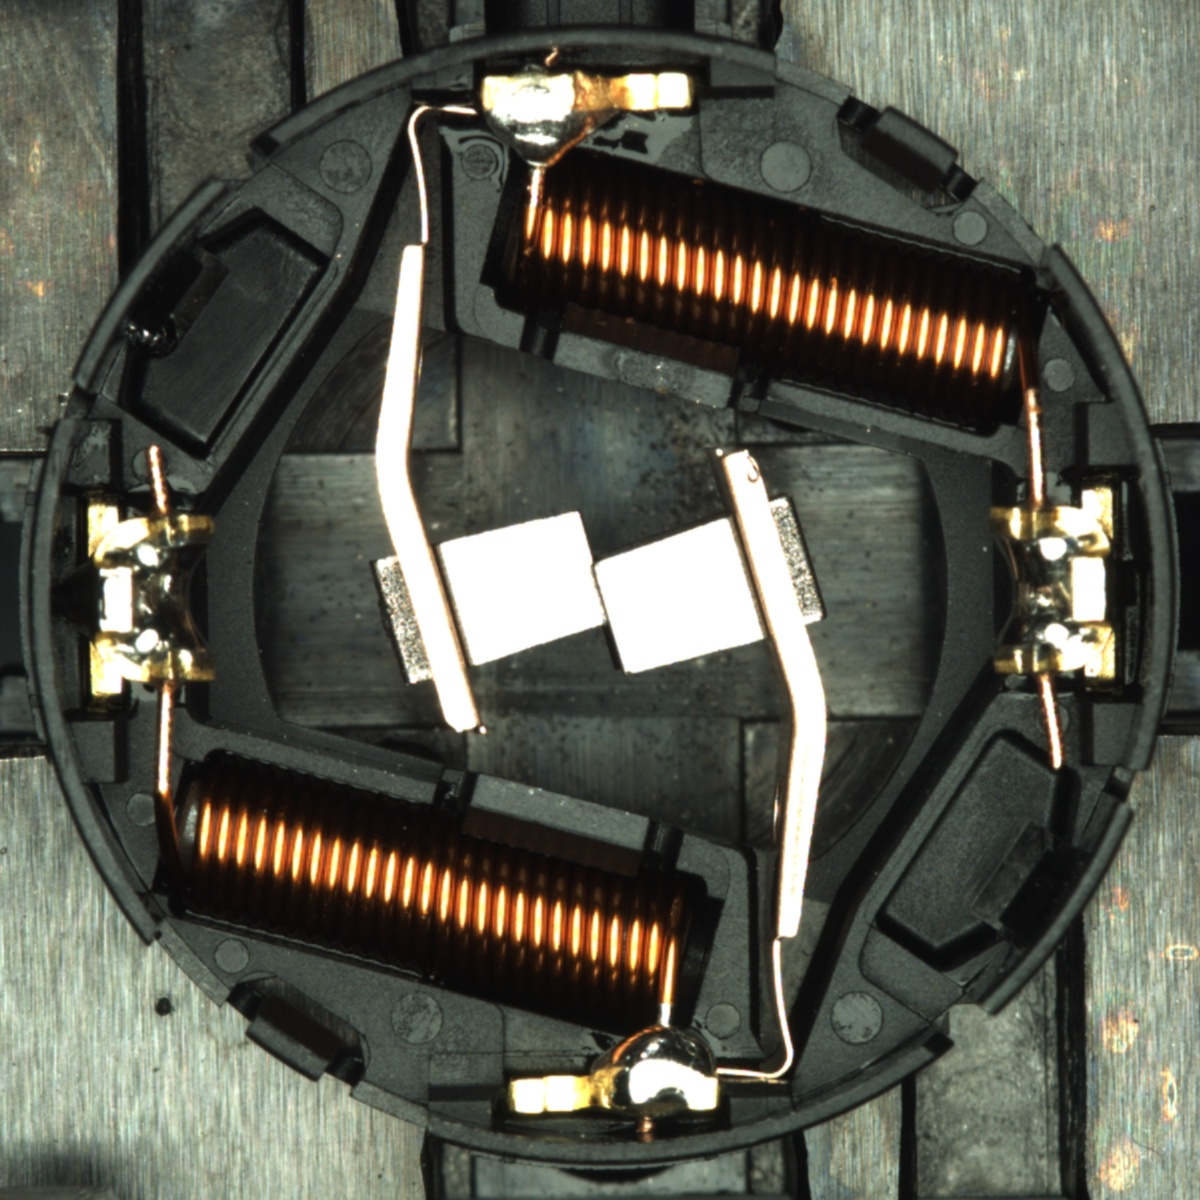1: (253, 31, 482, 255), (711, 929, 941, 1153)
2: (711, 31, 941, 255), (253, 929, 482, 1153)
3: (941, 704, 1169, 929)
4: (253, 255, 482, 480), (711, 704, 941, 929)
5: (482, 143, 711, 368), (482, 816, 711, 1041)
6: (711, 255, 941, 480), (253, 704, 482, 929)
7: (941, 255, 1169, 480), (23, 704, 253, 929)
cacbon: (396, 499, 797, 685)
chau_dien: (81, 497, 221, 699), (982, 487, 1122, 685)
hat_chi: (121, 308, 180, 360)
tay_choi: (479, 69, 697, 171), (509, 1021, 721, 1118)
thanh_de: (954, 787, 1142, 1030)
vun_chi: (123, 311, 180, 357)
